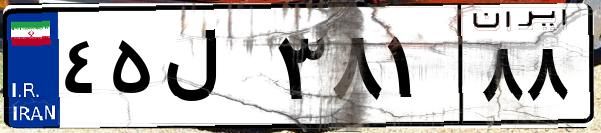1: (385, 28, 445, 110)
3: (270, 28, 330, 110)
4: (57, 26, 110, 100)
5: (110, 28, 158, 98)
8: (330, 28, 385, 110), (475, 38, 525, 113), (525, 38, 570, 115)
ل: (158, 20, 270, 120)
